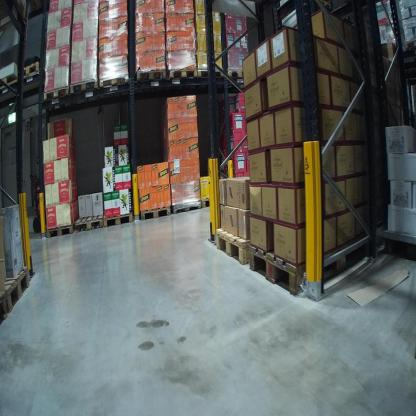pallet: (248, 206, 380, 296), (209, 221, 256, 270), (3, 260, 35, 315), (15, 51, 46, 94), (46, 211, 78, 241), (167, 60, 199, 87), (74, 210, 105, 236), (103, 206, 134, 230), (197, 62, 227, 85), (134, 64, 169, 82), (100, 69, 133, 88), (140, 205, 171, 225), (42, 86, 73, 106), (171, 202, 202, 221), (68, 80, 99, 99), (226, 69, 249, 86), (201, 192, 217, 213), (1, 288, 7, 327)
